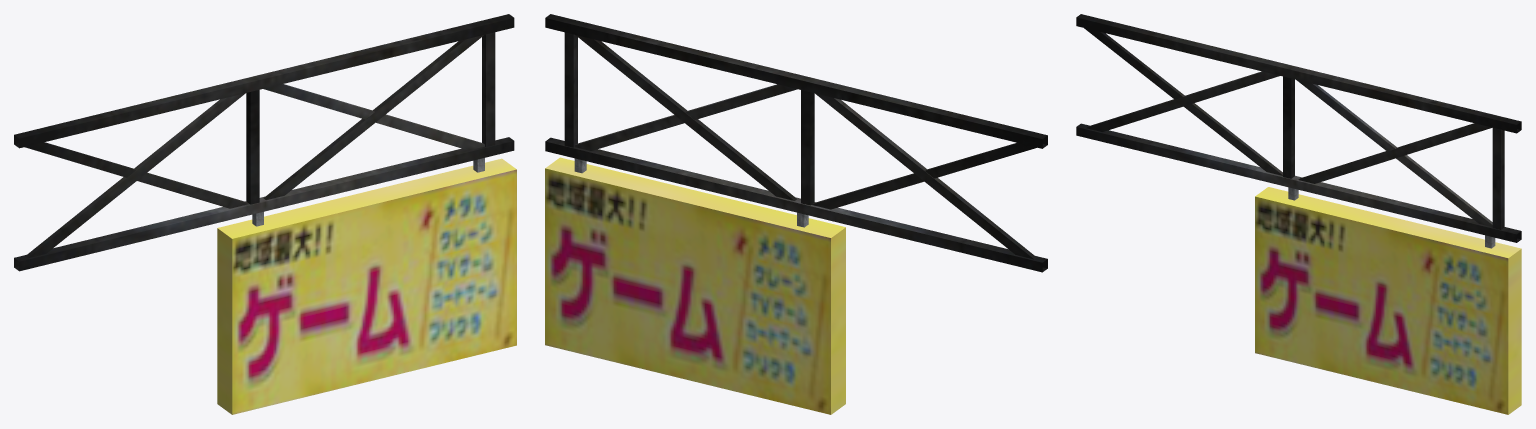
Rendered from SIN0210011.fbx.
The picture shows the model from 3 angles, left to right: view 1: azimuth 30°, elevation 25°; view 2: azimuth 150°, elevation 25°; view 3: azimuth 330°, elevation 25°; orthographic projection. The views are drawn at different scales.
Visible parts, largest first — view 1: smSIN0210011; view 2: smSIN0210011; view 3: smSIN0210011.
Part boxes in pixels (x1=…): smSIN0210011: x1=14, y1=14, x2=516, y2=414; smSIN0210011: x1=545, y1=14, x2=1047, y2=414; smSIN0210011: x1=1076, y1=14, x2=1521, y2=414.
Bounding box in the file's own units: 257 × 160 × 13.43.
Materials: 1 (1 with a texture image).
